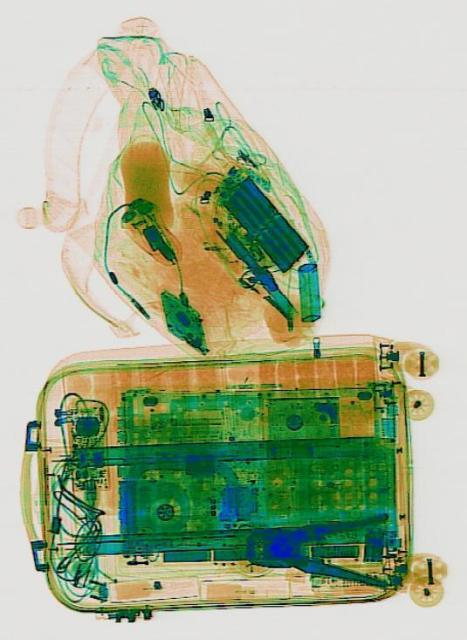Pliers: (243, 506, 387, 586)
